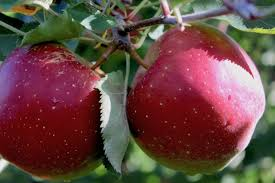apple: (130, 29, 271, 177), (4, 51, 111, 176)
